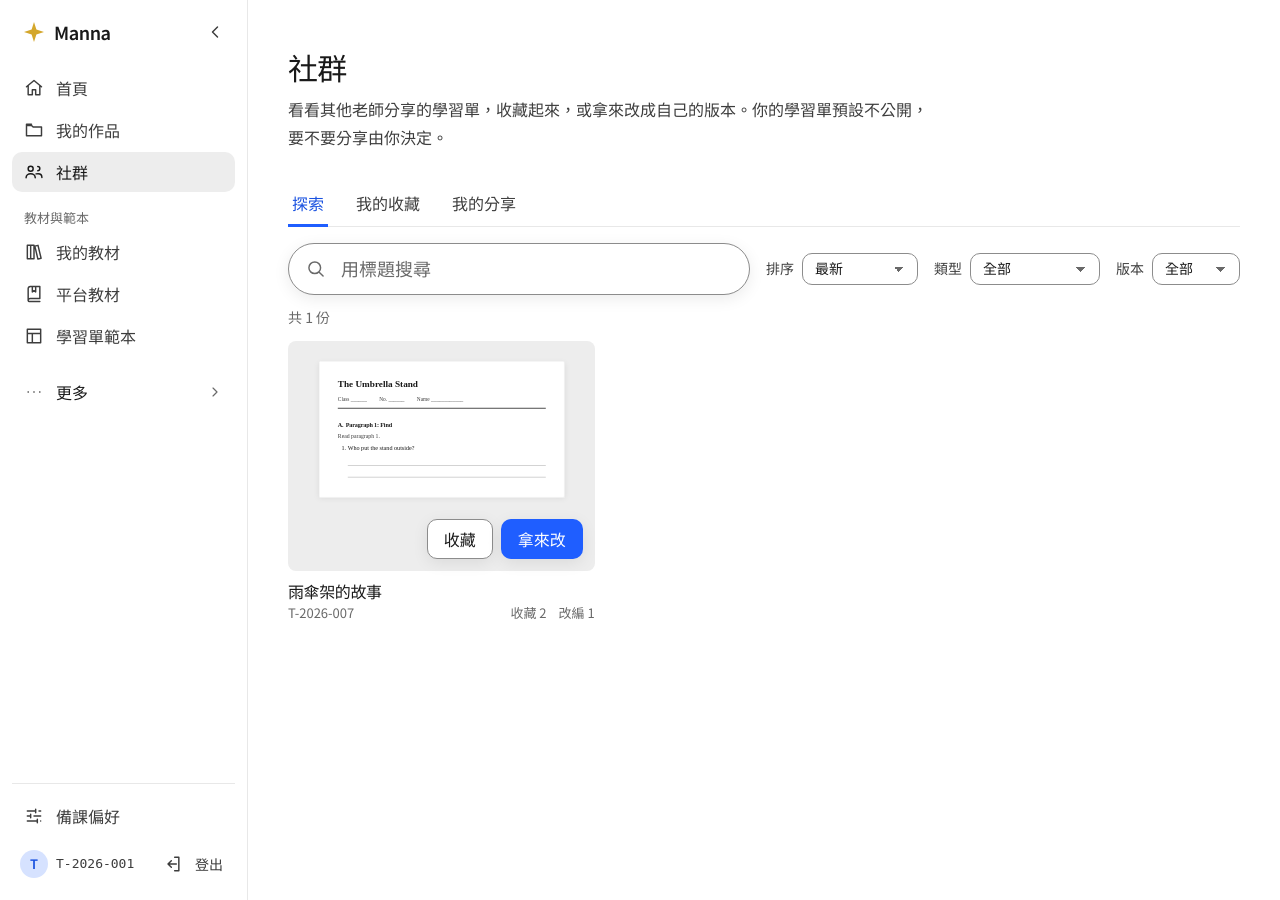
Test: 社群: the preview › shows the error when the worksheet was withdrawn meanwhile
Click the button with aria-label "預覽：雨傘架的故事".
click(441, 456)  # box [288,341,595,571]
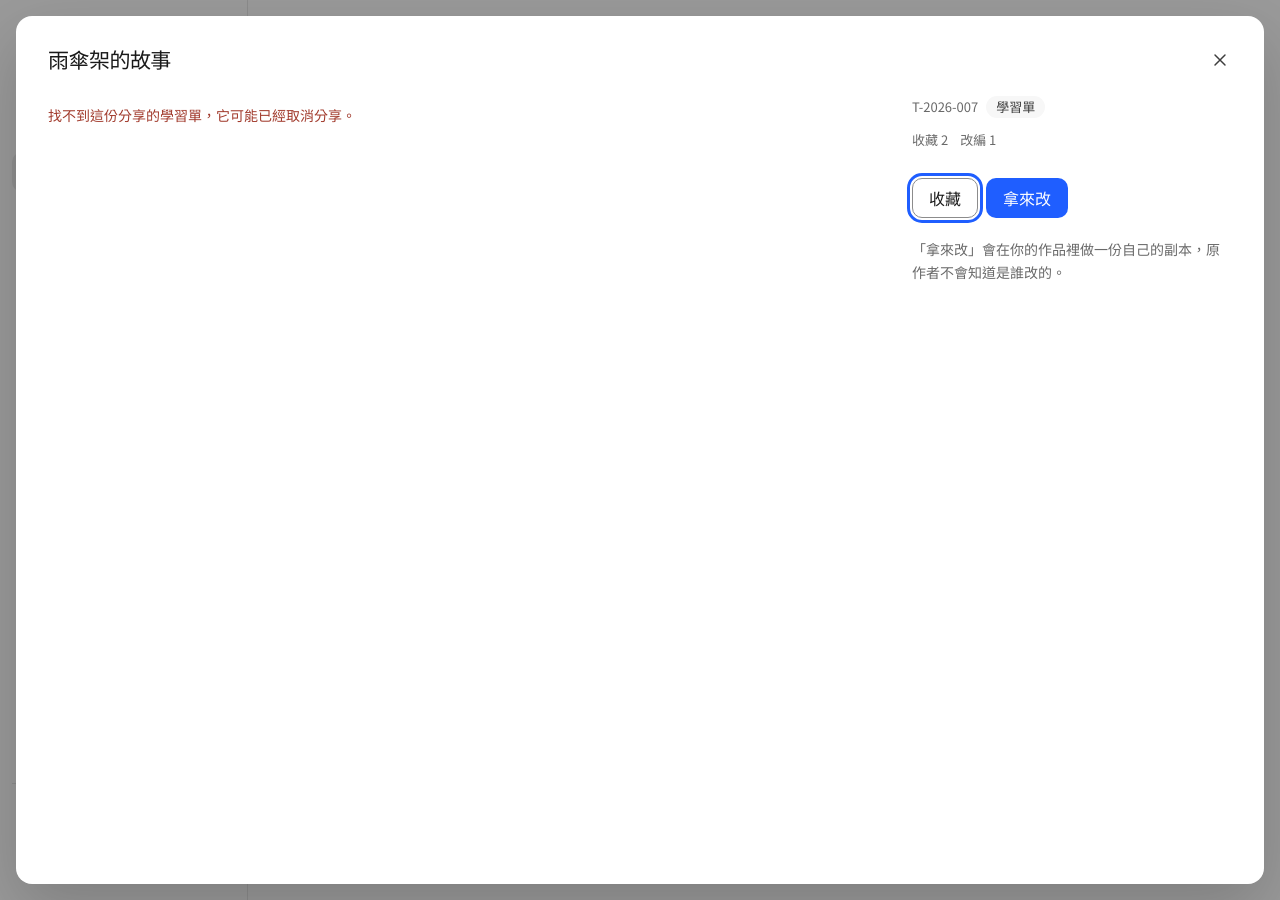
expect the text "找不到這份分享的學習單，它可能已經取消分享。" is shown: met, box [48,105,356,125]
